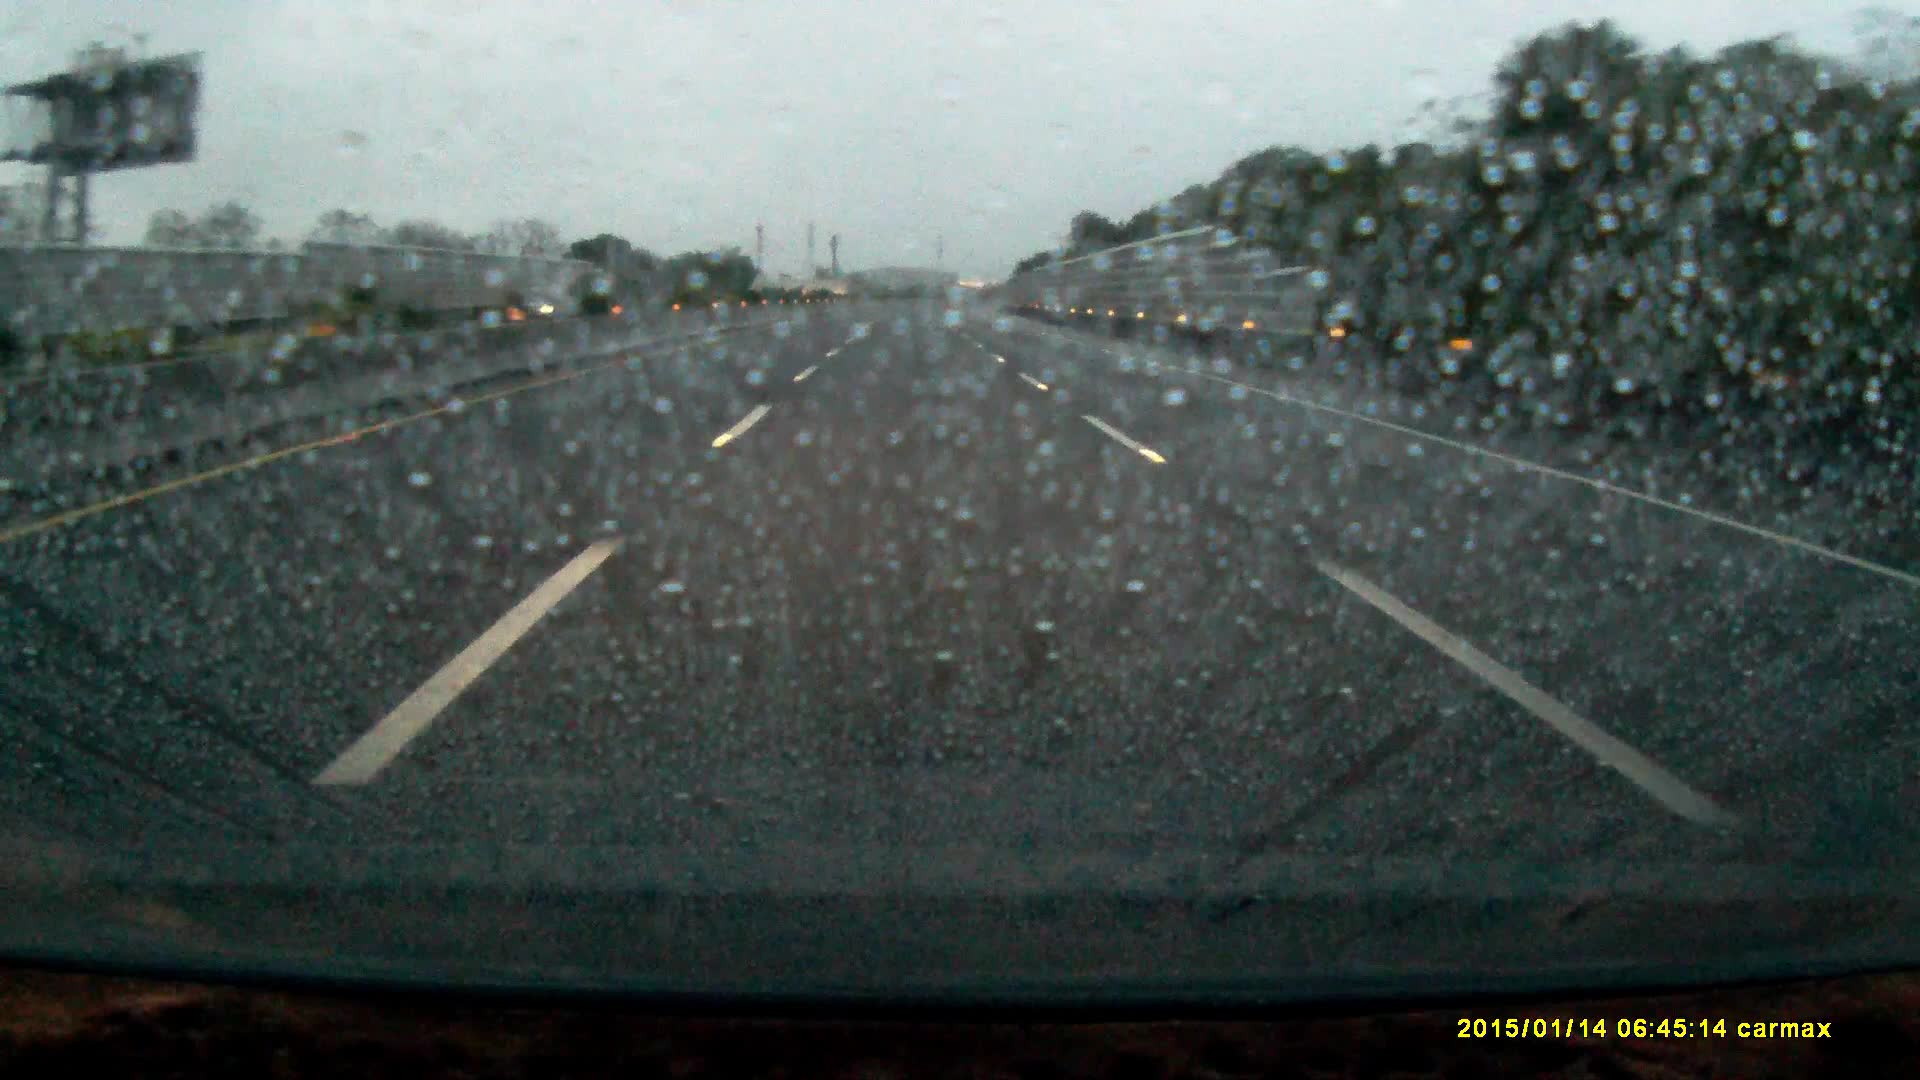vehicle: (509, 284, 570, 315)
